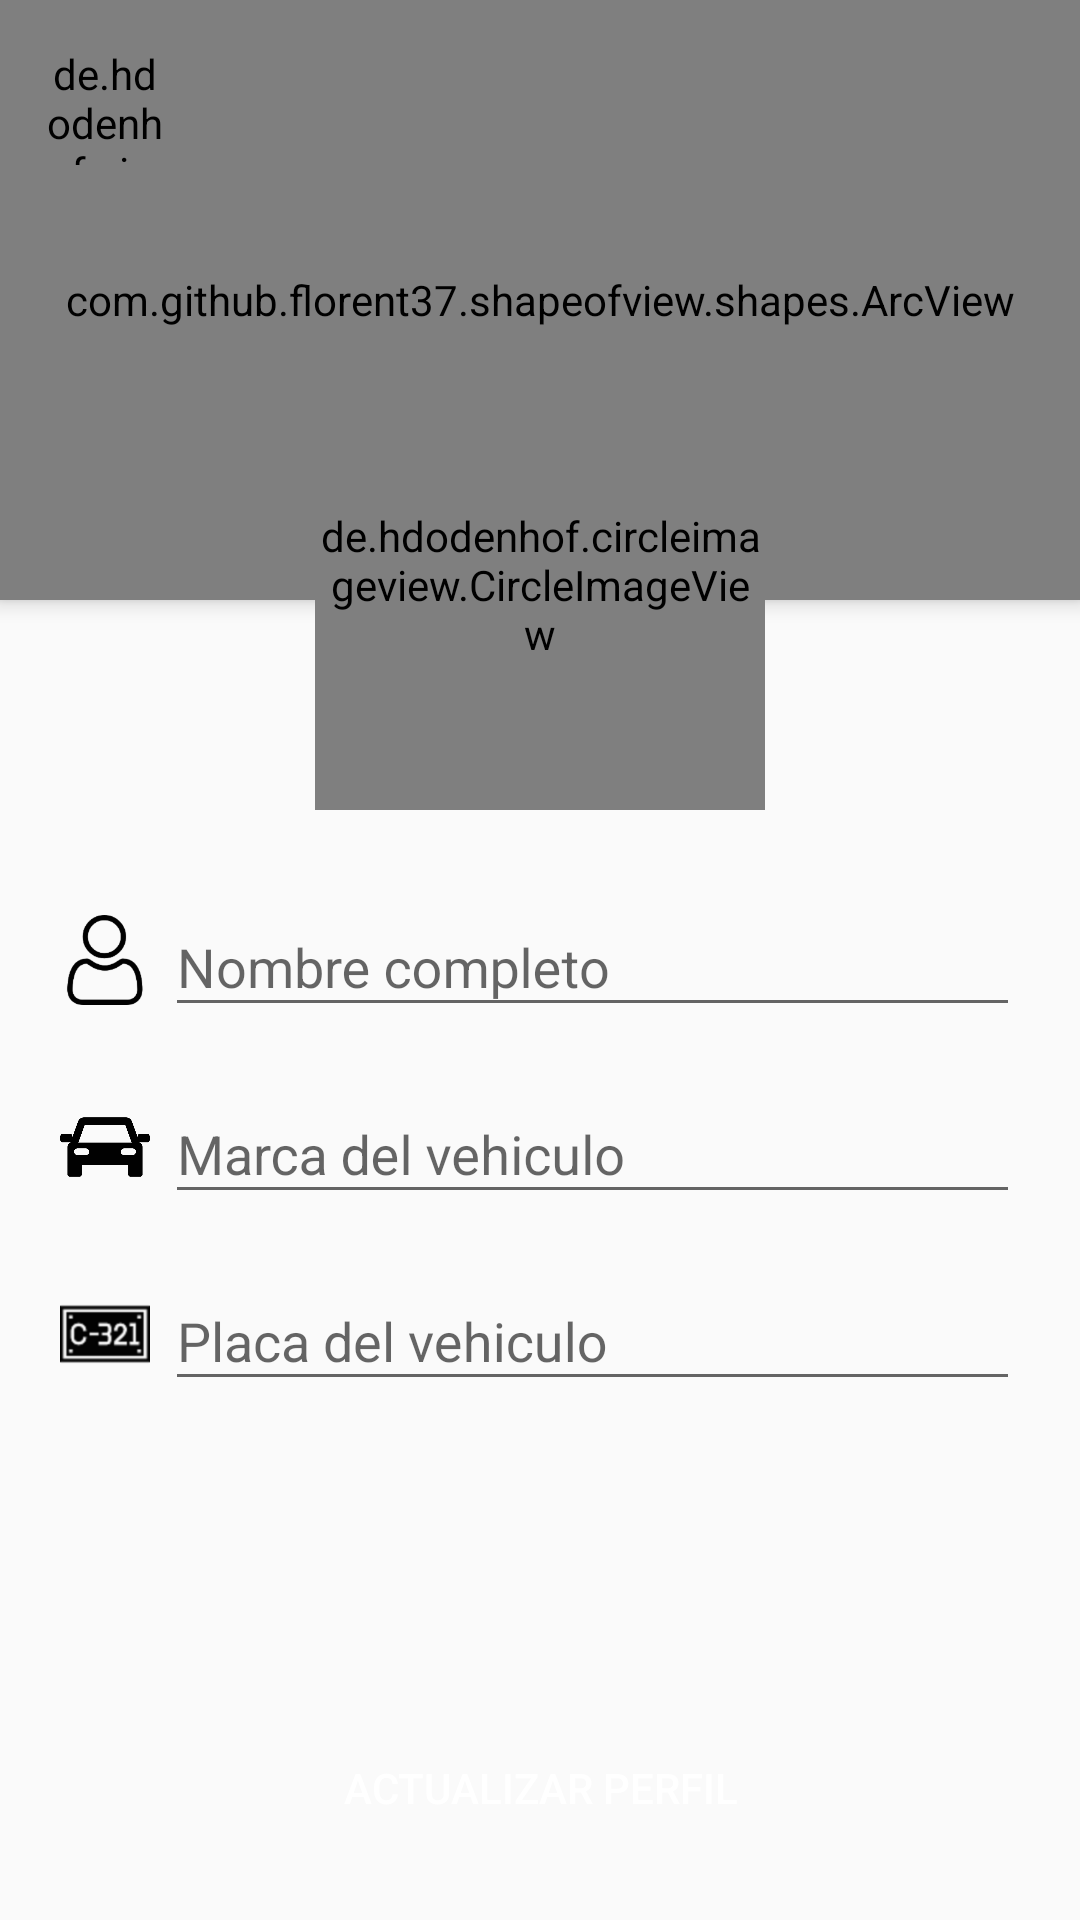

Icons on this 1080 × 1920 Android screen, each with the point to tap as (x=x, y=y):
caricon: (x=105, y=1147)
matricula: (x=105, y=1334)
person: (x=105, y=960)
